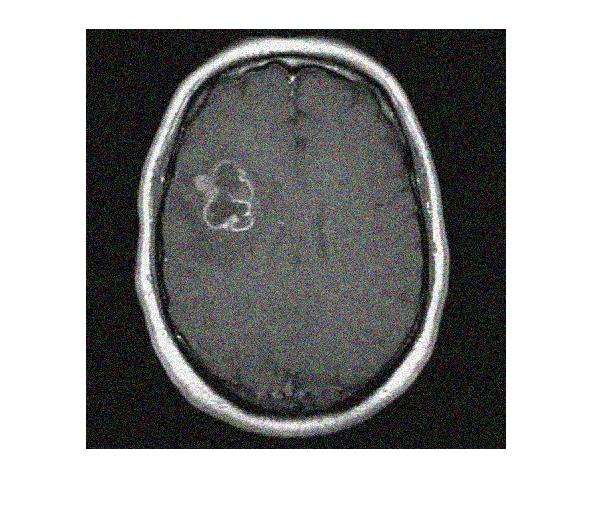Brain_Cancer: (194, 158, 259, 235)
